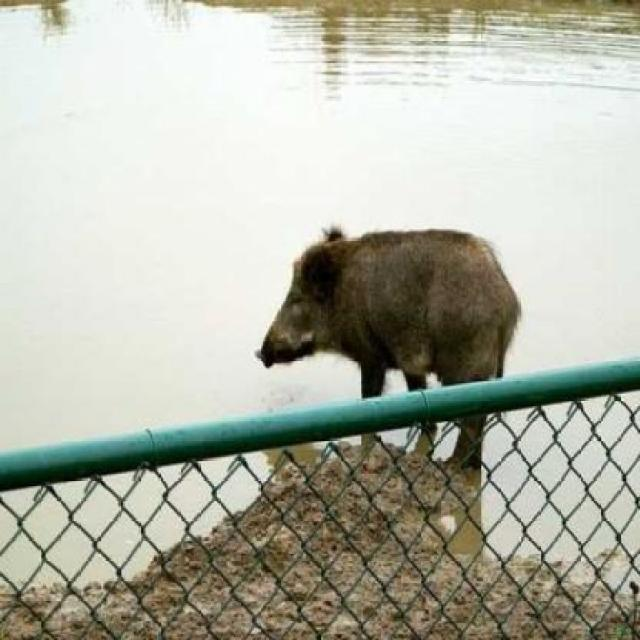pig: (274, 189, 613, 457)
